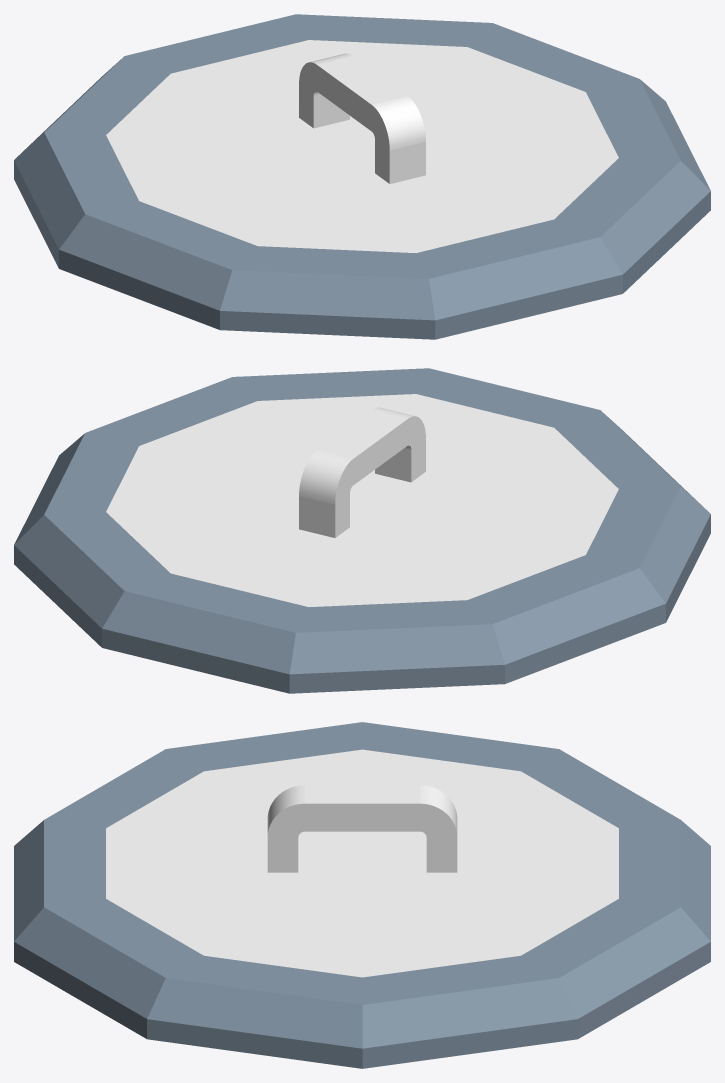
The model's file is potLid.fbx.
The picture shows the model from 3 angles, top to bottom: view 1: azimuth 30°, elevation 25°; view 2: azimuth 150°, elevation 25°; view 3: azimuth 270°, elevation 25°; orthographic projection. The views are drawn at different scales.
Parts seen in each view (by area): view 1: potLid; view 2: potLid; view 3: potLid.
Boxes of the visible parts, <box> form: potLid: <box>14,14,710,339</box>; potLid: <box>14,368,710,693</box>; potLid: <box>14,722,710,1068</box>.
Size of the model in its own units: 6.57 by 1.18 by 6.25.
